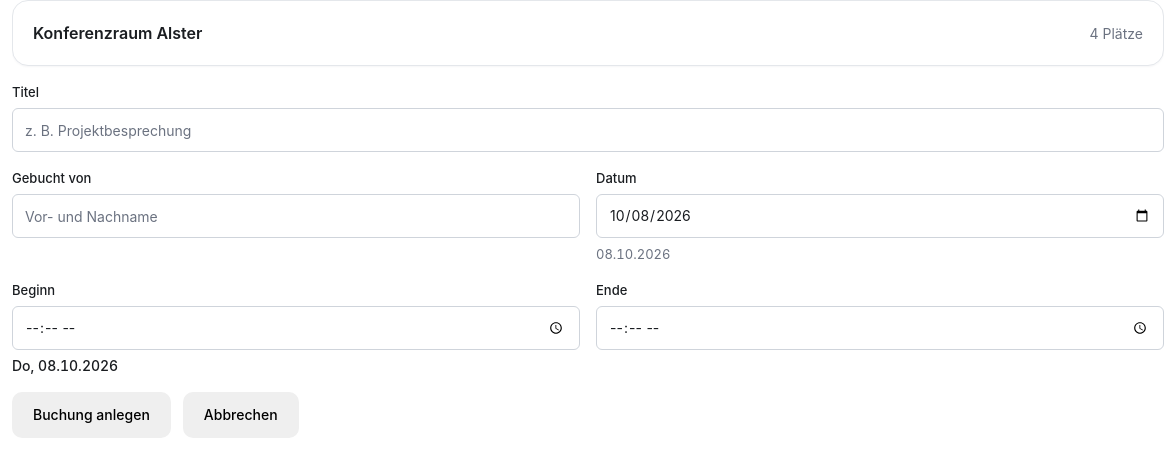
Scenario: BookingForm date and time display › shows date and time values in the product format
In the time field labelled "Beginn": (296,328) [12,306,580,350], type "09:00"
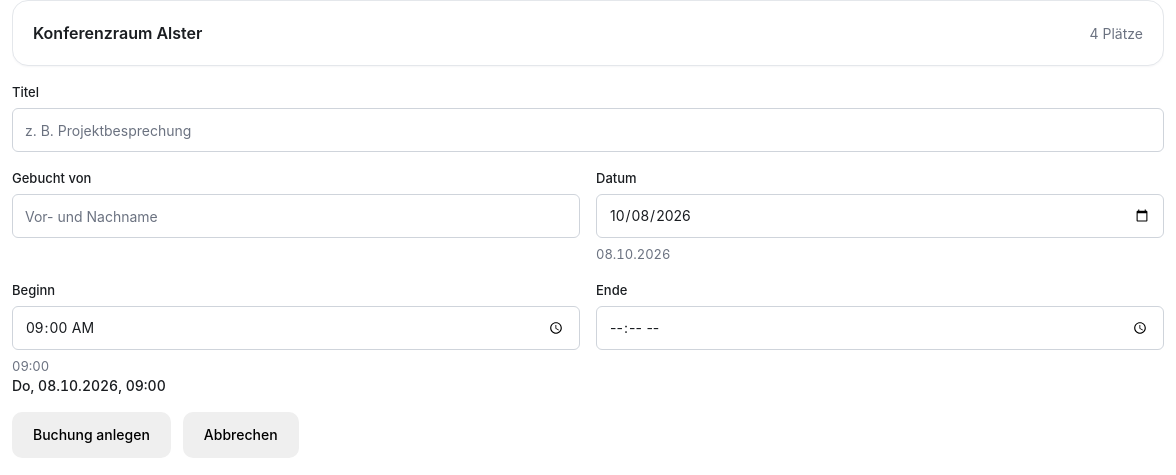
In the time field labelled "Ende": (880,328) [596,306,1164,350], type "10:00"
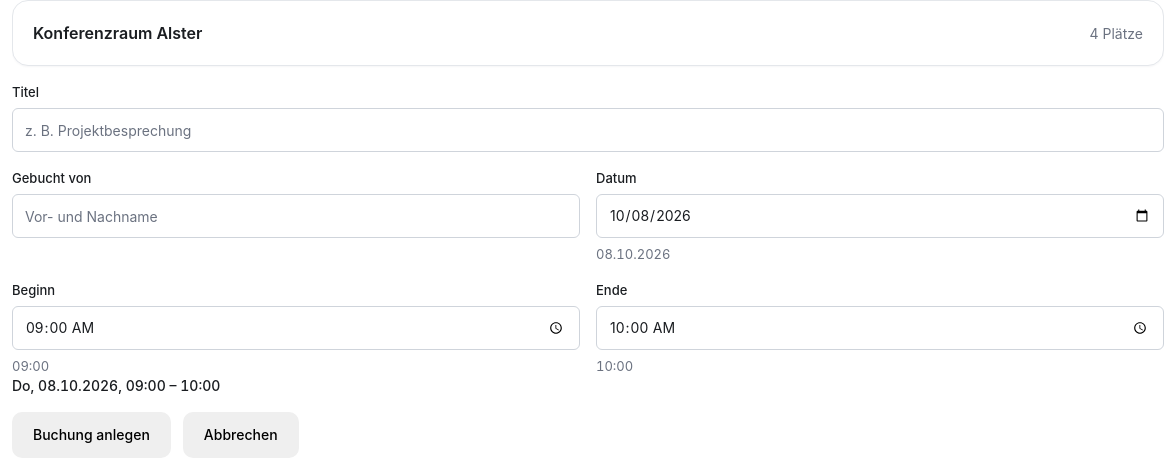
Now the text with test id "booking-start-value" reads "09:00", box [12,358,49,374]
Now the text with test id "booking-period-summary" shows "09:00", box [118,377,166,394]
Now the text with test id "booking-end-value" reads "10:00", box [596,358,633,374]
